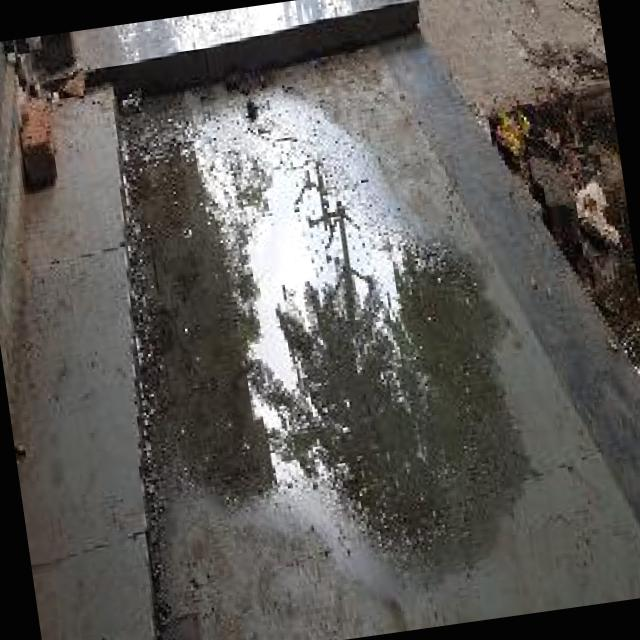stagnation: (115, 71, 556, 611)
